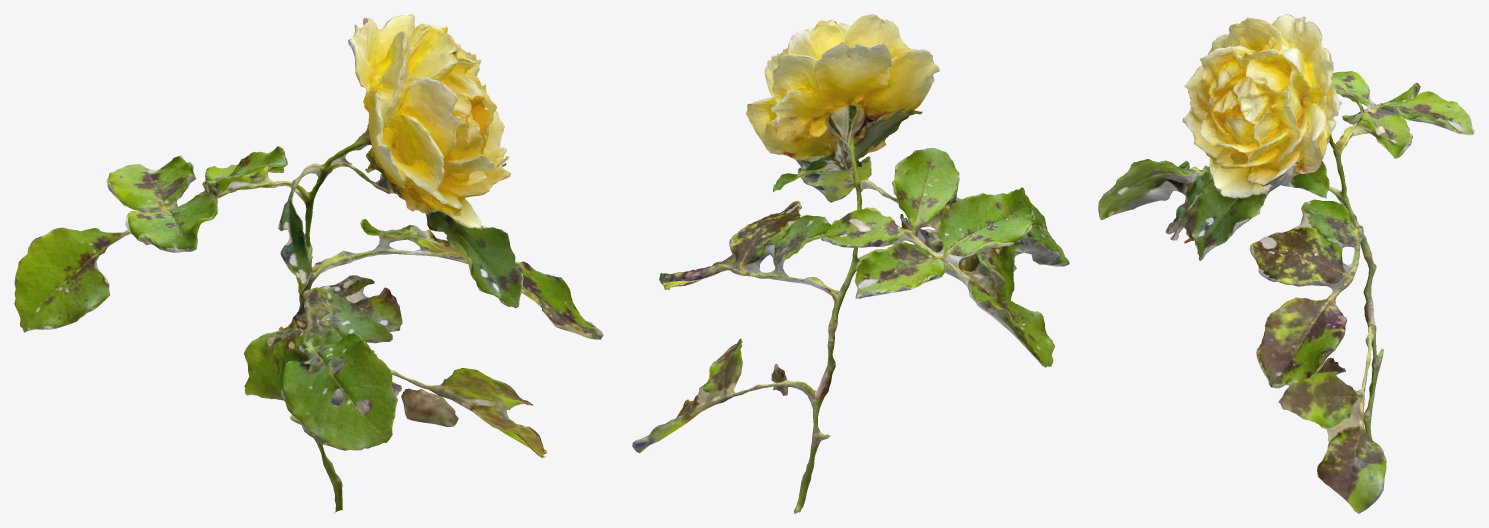
File: rosa.glb
3 views of the same model, side by side, from view 1: azimuth 30°, elevation 25°; view 2: azimuth 150°, elevation 25°; view 3: azimuth 270°, elevation 25° (orthographic). The views are drawn at different scales.
Visible parts, largest first — view 1: Object_4; view 2: Object_4; view 3: Object_4.
Part boxes in pixels (box(x1,y1,x2,y2)): Object_4: box(14, 14, 603, 512); Object_4: box(632, 14, 1069, 513); Object_4: box(1098, 14, 1474, 513).
Bounding box in the file's own units: 0.2081 × 0.2085 × 0.166.
1 material, 1 textured.
